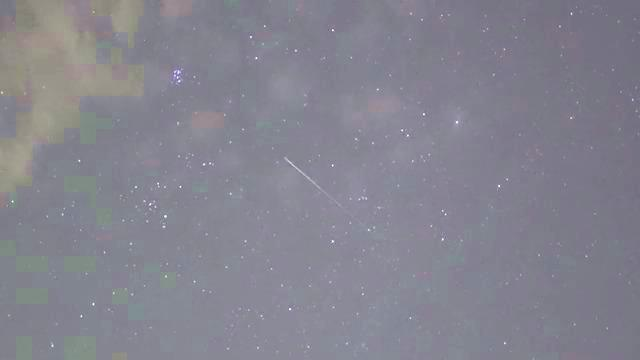meteorite: (279, 154, 339, 205)
